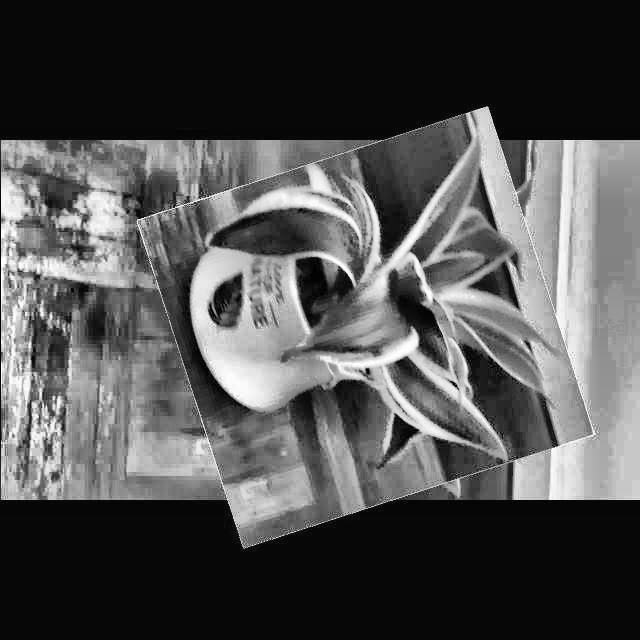plants: (158, 130, 572, 524)
